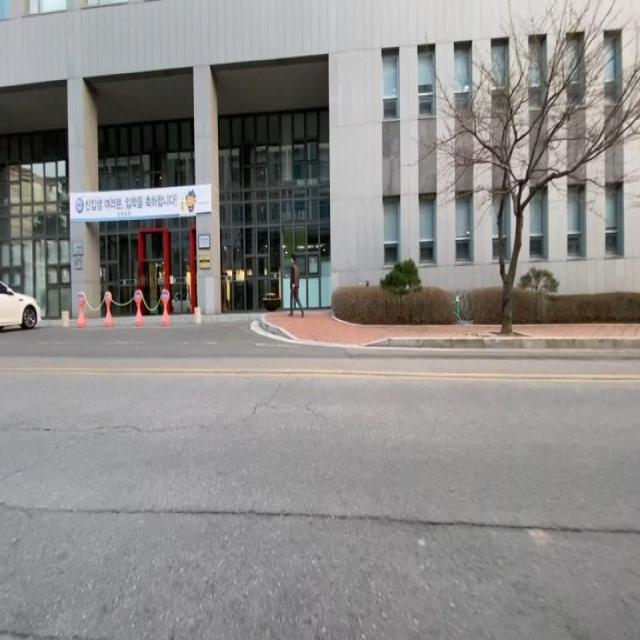sidewalk: (264, 311, 503, 344), (513, 324, 640, 337)
